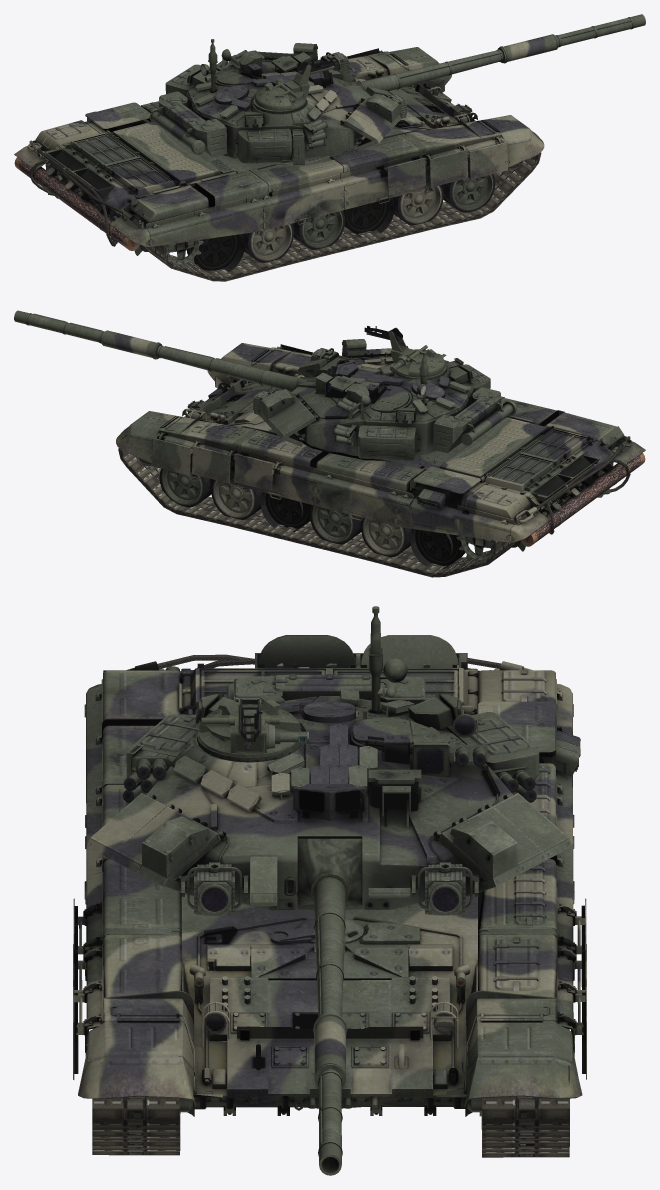
The model's file is t-90_coldwar.obj.
The picture shows the model from 3 angles, top to bottom: view 1: azimuth 30°, elevation 25°; view 2: azimuth 150°, elevation 25°; view 3: azimuth 270°, elevation 25°; orthographic projection. The views are drawn at different scales.
Visible parts, largest first — view 1: DrawCall_0130, DrawCall_0093.001, DrawCall_0145, DrawCall_0166, DrawCall_0121, DrawCall_0139, DrawCall_0162, DrawCall_0156, DrawCall_0131, DrawCall_0136, DrawCall_0161, DrawCall_0132 (+10 smaller); view 2: DrawCall_0130, DrawCall_0093.001, DrawCall_0145, DrawCall_0165, DrawCall_0121, DrawCall_0139, DrawCall_0147, DrawCall_0153, DrawCall_0152, DrawCall_0141, DrawCall_0138, DrawCall_0135 (+12 smaller); view 3: DrawCall_0130, DrawCall_0093.001, DrawCall_0121, DrawCall_0165, DrawCall_0166, DrawCall_0145, DrawCall_0164, DrawCall_0127, DrawCall_0111.001, DrawCall_0107.001, DrawCall_0114.001, DrawCall_0160 (+23 smaller).
Boxes of the visible parts, left/top/right/bottom form: DrawCall_0130: left=14, top=47, right=544, bottom=255; DrawCall_0093.001: left=149, top=39, right=406, bottom=165; DrawCall_0145: left=69, top=122, right=220, bottom=195; DrawCall_0166: left=144, top=137, right=541, bottom=281; DrawCall_0121: left=361, top=14, right=645, bottom=95; DrawCall_0139: left=14, top=157, right=139, bottom=250; DrawCall_0162: left=186, top=234, right=244, bottom=272; DrawCall_0156: left=441, top=174, right=495, bottom=212; DrawCall_0131: left=392, top=185, right=443, bottom=225; DrawCall_0136: left=292, top=210, right=345, bottom=249; DrawCall_0161: left=242, top=223, right=294, bottom=262; DrawCall_0132: left=343, top=198, right=394, bottom=237; DrawCall_0130: left=116, top=343, right=645, bottom=551; DrawCall_0093.001: left=253, top=348, right=516, bottom=460; DrawCall_0145: left=439, top=417, right=591, bottom=491; DrawCall_0165: left=118, top=433, right=515, bottom=577; DrawCall_0121: left=14, top=310, right=298, bottom=392; DrawCall_0139: left=520, top=453, right=645, bottom=546; DrawCall_0147: left=410, top=529, right=468, bottom=569; DrawCall_0153: left=211, top=480, right=262, bottom=519; DrawCall_0152: left=159, top=468, right=213, bottom=507; DrawCall_0141: left=309, top=505, right=362, bottom=544; DrawCall_0138: left=361, top=518, right=412, bottom=557; DrawCall_0135: left=260, top=492, right=311, bottom=532; DrawCall_0130: left=74, top=653, right=585, bottom=1116; DrawCall_0093.001: left=122, top=606, right=539, bottom=915; DrawCall_0121: left=313, top=877, right=347, bottom=1175; DrawCall_0165: left=481, top=1028, right=569, bottom=1157; DrawCall_0166: left=92, top=1028, right=180, bottom=1155; DrawCall_0145: left=190, top=663, right=467, bottom=714; DrawCall_0164: left=297, top=838, right=362, bottom=905; DrawCall_0127: left=197, top=699, right=308, bottom=762; DrawCall_0111.001: left=438, top=816, right=517, bottom=880; DrawCall_0107.001: left=141, top=816, right=220, bottom=880; DrawCall_0114.001: left=209, top=976, right=268, bottom=1040; DrawCall_0160: left=391, top=976, right=450, bottom=1040.
Bounding box in the file's own units: 192 × 56.35 × 74.38.
